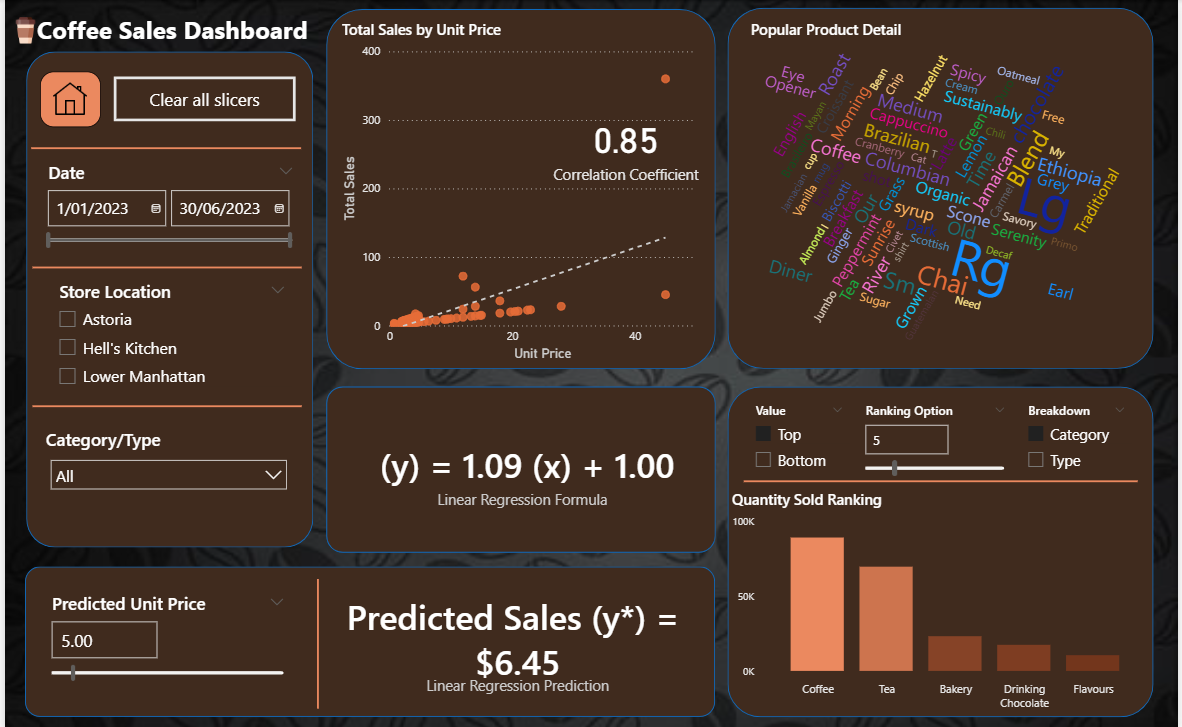

What the dashboard file says about the page in this screenshot:
{"tool":"powerbi","page":{"name":"Product Report","canvas":[1280,800],"ordinal":1},"visuals":[{"type":"shape","box":[350.5,10.6,424.6,392.9],"z":0},{"type":"scatterChart","title":"Total Sales by Unit Price","fields":{"X":["Fact_Sales.unit_price"],"Y":["Fact_Sales.Sales"]},"box":[362.4,21.2,403.4,378.3],"z":1000},{"type":"shape","box":[787.7,422.7,464.6,360.7],"z":2000},{"type":"shape","box":[23.1,57.7,313.1,541],"z":3000},{"type":"slicer","fields":{"Values":["Dim_Date.Date"]},"box":[34.4,172,292.3,103.2],"z":4000},{"type":"shape","box":[28.9,154.4,294.3,17.3],"z":5000},{"type":"shape","box":[350.5,423.3,424.6,181.2],"z":6000},{"type":"shape","box":[787.7,10.1,464.6,393.9],"z":7000},{"type":"textbox","box":[30.3,10.1,331.8,47.6],"z":8000},{"type":"image","box":[0,14.4,44.7,39],"z":9000},{"type":"WordCloud1447959067750","title":"Popular Product Detail","fields":{"Category":["Dim_Product.product_detail"],"Values":["Key Measures.Total Quantity Sold"]},"box":[807.9,21.6,444.4,389.5],"z":10000},{"type":"slicer","fields":{"Values":["Dim_Store.store_location"]},"box":[46.3,301.6,271.2,133.6],"z":11000},{"type":"slicer","title":"Category/Type","fields":{"Values":["Dim_Category.product_category","Dim_Type.product_type"]},"box":[39.7,468.3,277.8,92.6],"z":12000},{"type":"card","fields":{"Values":["Dim_Category.unit_price and Sales correlation for Sales"]},"box":[588.6,116.9,177.5,89.5],"z":13000},{"type":"card","fields":{"Values":["Key Measures.linear_regression_formula"]},"box":[362.1,435.7,404,164.5],"z":14000},{"type":"shape","box":[22.5,619.1,752.6,164],"z":15000},{"type":"card","fields":{"Values":["Key Measures.Linear Regression Prediction"]},"box":[353.2,624.3,412.7,157.4],"z":16000},{"type":"slicer","fields":{"Values":["Predicted Sales.Predicted Sales"]},"box":[37.5,642,278.5,122.6],"z":17000},{"type":"shape","box":[30.4,283.1,293.7,18.5],"z":18000},{"type":"actionButton","box":[119,84.7,198.4,48.9],"z":19000},{"type":"shape","box":[333.3,631.9,17.3,141.4],"z":20000},{"type":"slicer","fields":{"Values":["Ranking Option.Ranking Option"]},"box":[925.9,435.2,177.2,88.6],"z":21000},{"type":"slicer","fields":{"Values":["TopBottom.Value"]},"box":[805.6,435.2,120.4,88.6],"z":22000},{"type":"slicer","fields":{"Values":["Breakdown.Breakdown"]},"box":[1103.2,435.2,131,88.6],"z":23000},{"type":"columnChart","title":"Quantity Sold Ranking","fields":{"Category":["Dim_Category.product_category"],"Y":["Key Measures.Ranking Product"]},"box":[787.7,533.8,464.6,249.6],"z":24000},{"type":"shape","box":[30.4,435.2,293.7,18.5],"z":25000},{"type":"image","box":[37.5,79.4,66.4,60.6],"z":26000},{"type":"shape","box":[805.1,518,429.9,15.9],"z":27000}]}

Visuals, with their boxes in screenshot pixels (x1, y1, x2, y2), scaled from the page's 1280x800 canvas onto the 1182x727 screenshot:
shape: {"left": 324, "top": 10, "right": 716, "bottom": 367}
"Total Sales by Unit Price" scatterChart: {"left": 335, "top": 19, "right": 707, "bottom": 363}
shape: {"left": 727, "top": 384, "right": 1156, "bottom": 712}
shape: {"left": 21, "top": 52, "right": 310, "bottom": 544}
slicer - Dim_Date.Date: {"left": 32, "top": 156, "right": 302, "bottom": 250}
shape: {"left": 27, "top": 140, "right": 298, "bottom": 156}
shape: {"left": 324, "top": 385, "right": 716, "bottom": 549}
shape: {"left": 727, "top": 9, "right": 1156, "bottom": 367}
textbox: {"left": 28, "top": 9, "right": 334, "bottom": 52}
image: {"left": 0, "top": 13, "right": 41, "bottom": 49}
"Popular Product Detail" WordCloud1447959067750: {"left": 746, "top": 20, "right": 1156, "bottom": 374}
slicer - Dim_Store.store_location: {"left": 43, "top": 274, "right": 293, "bottom": 395}
"Category/Type" slicer: {"left": 37, "top": 426, "right": 293, "bottom": 510}
card - Dim_Category.unit_price and Sales correlation for Sales: {"left": 544, "top": 106, "right": 707, "bottom": 188}
card - Key Measures.linear_regression_formula: {"left": 334, "top": 396, "right": 707, "bottom": 545}
shape: {"left": 21, "top": 563, "right": 716, "bottom": 712}
card - Key Measures.Linear Regression Prediction: {"left": 326, "top": 567, "right": 707, "bottom": 710}
slicer - Predicted Sales.Predicted Sales: {"left": 35, "top": 583, "right": 292, "bottom": 695}
shape: {"left": 28, "top": 257, "right": 299, "bottom": 274}
actionButton: {"left": 110, "top": 77, "right": 293, "bottom": 121}
shape: {"left": 308, "top": 574, "right": 324, "bottom": 703}
slicer - Ranking Option.Ranking Option: {"left": 855, "top": 395, "right": 1019, "bottom": 476}
slicer - TopBottom.Value: {"left": 744, "top": 395, "right": 855, "bottom": 476}
slicer - Breakdown.Breakdown: {"left": 1019, "top": 395, "right": 1140, "bottom": 476}
"Quantity Sold Ranking" columnChart: {"left": 727, "top": 485, "right": 1156, "bottom": 712}
shape: {"left": 28, "top": 395, "right": 299, "bottom": 412}
image: {"left": 35, "top": 72, "right": 96, "bottom": 127}
shape: {"left": 743, "top": 471, "right": 1140, "bottom": 485}
